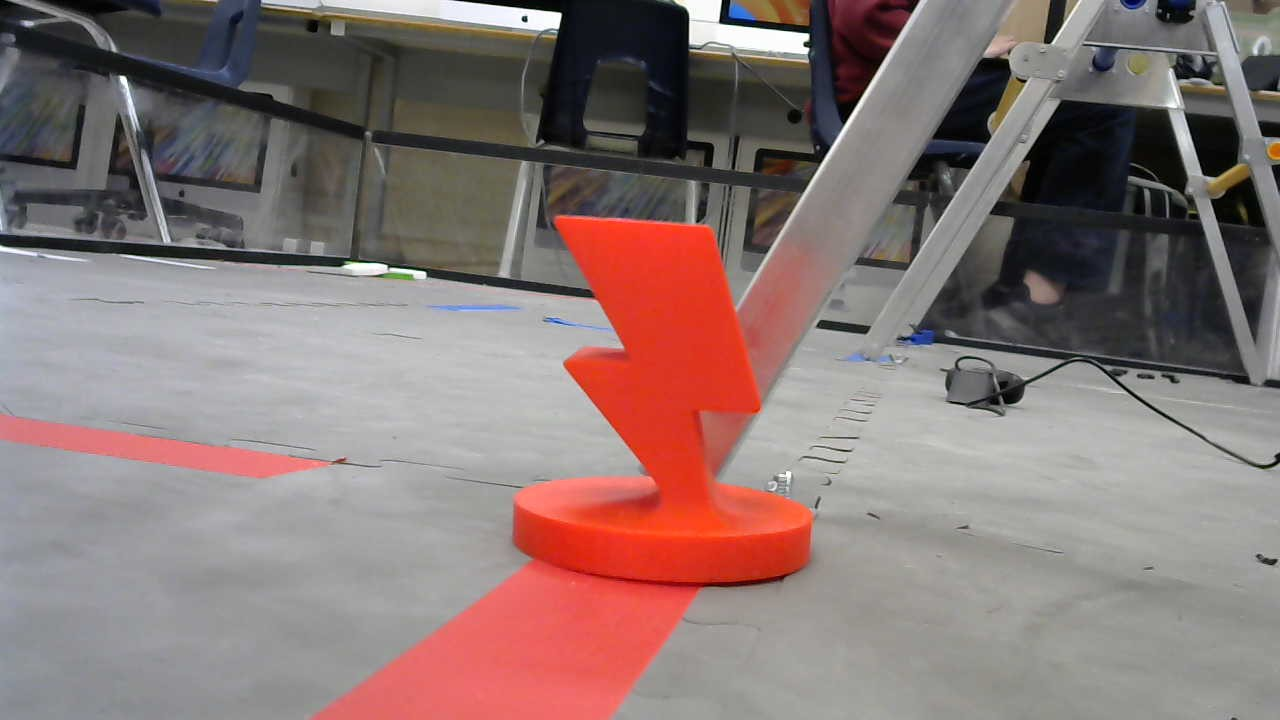redobject: (500, 213, 818, 590)
